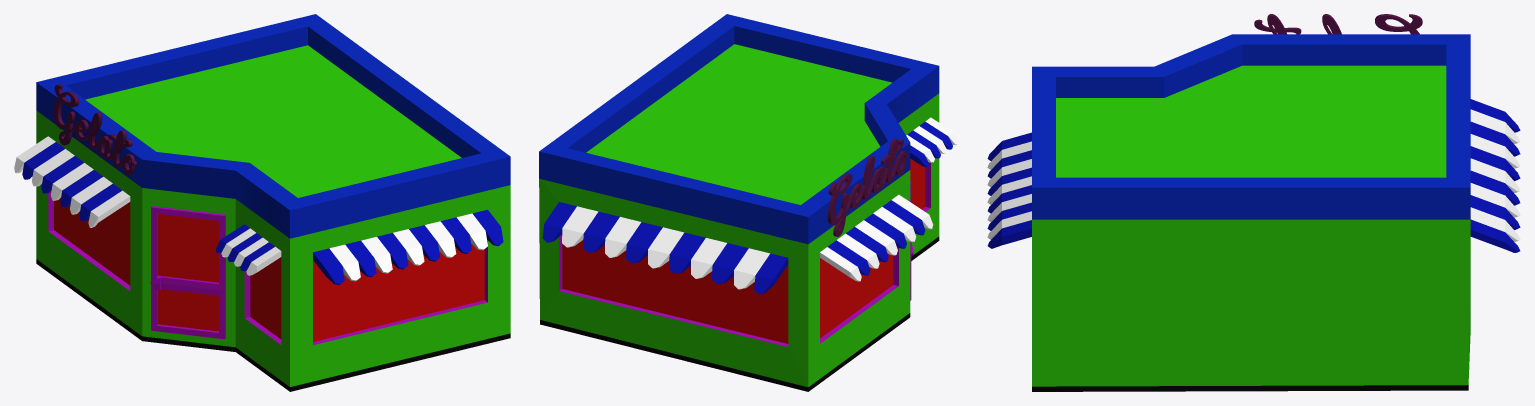
File: Gelato_00.FBX
The picture shows the model from 3 angles, left to right: view 1: azimuth 30°, elevation 25°; view 2: azimuth 150°, elevation 25°; view 3: azimuth 270°, elevation 25°; orthographic projection. The views are drawn at different scales.
Parts seen in each view (by area): view 1: Box001, Text001; view 2: Box001, Text001; view 3: Box001, Text001.
Boxes of the visible parts, bbox=[...] form: Box001: bbox=[14, 14, 510, 391]; Text001: bbox=[53, 84, 136, 175]; Box001: bbox=[539, 14, 958, 391]; Text001: bbox=[827, 138, 908, 236]; Box001: bbox=[987, 34, 1520, 391]; Text001: bbox=[1254, 14, 1422, 34].
Bounding box in the file's own units: 185 × 239 × 110.
